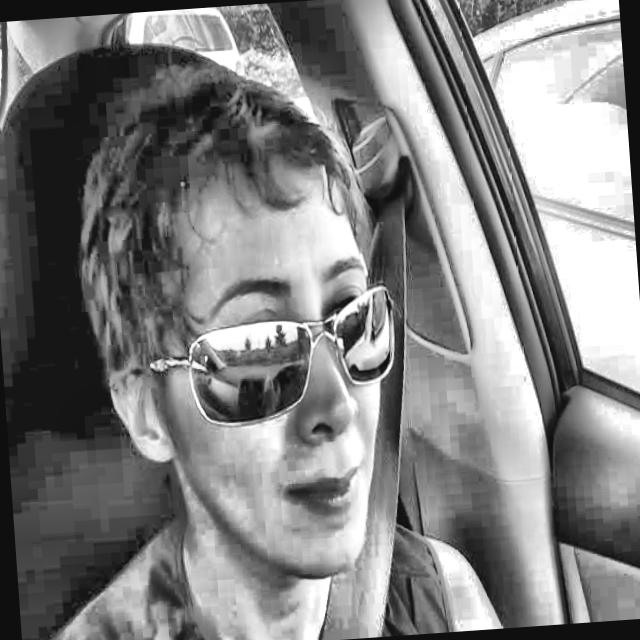closed_mouth: (259, 456, 391, 540)
